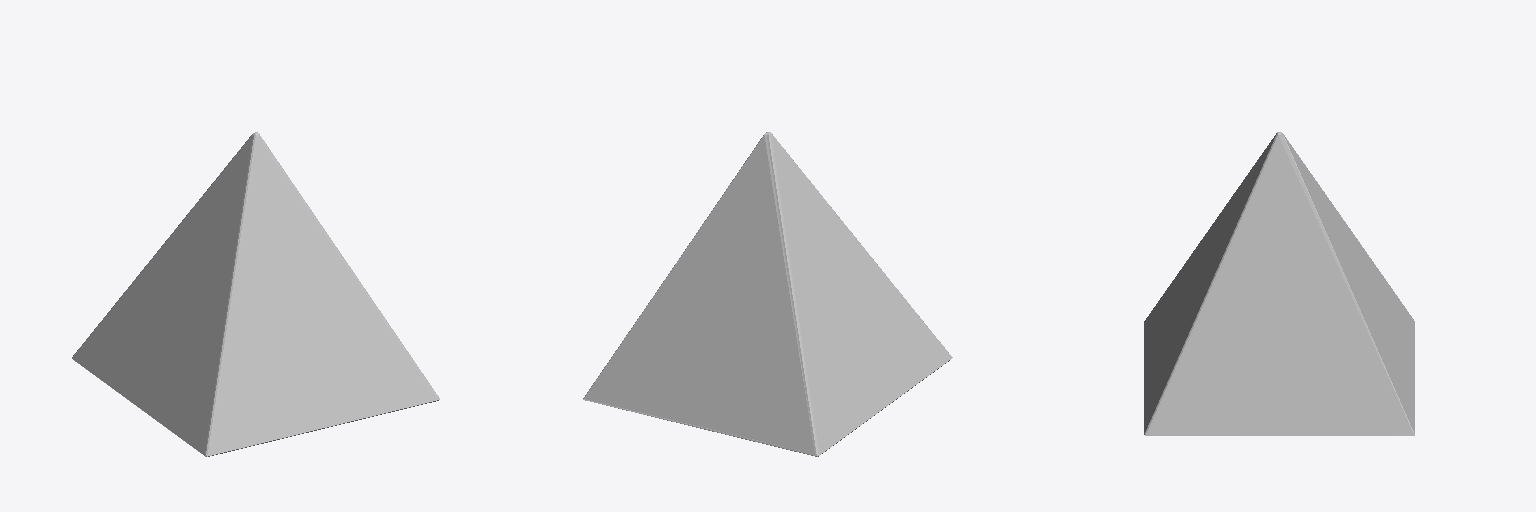
Rendered from pyrwmap.obj.
3 renders of one model, left to right at view 1: azimuth 30°, elevation 25°; view 2: azimuth 150°, elevation 25°; view 3: azimuth 270°, elevation 25°, orthographic.
Parts seen in each view (by area): view 1: Cube_Cube.001; view 2: Cube_Cube.001; view 3: Cube_Cube.001.
Boxes of the visible parts, x1,y1,x2,y2 form: Cube_Cube.001: [72, 132, 439, 456]; Cube_Cube.001: [583, 132, 952, 456]; Cube_Cube.001: [1144, 132, 1414, 435].
Bounding box in the file's own units: 2 × 2 × 2.